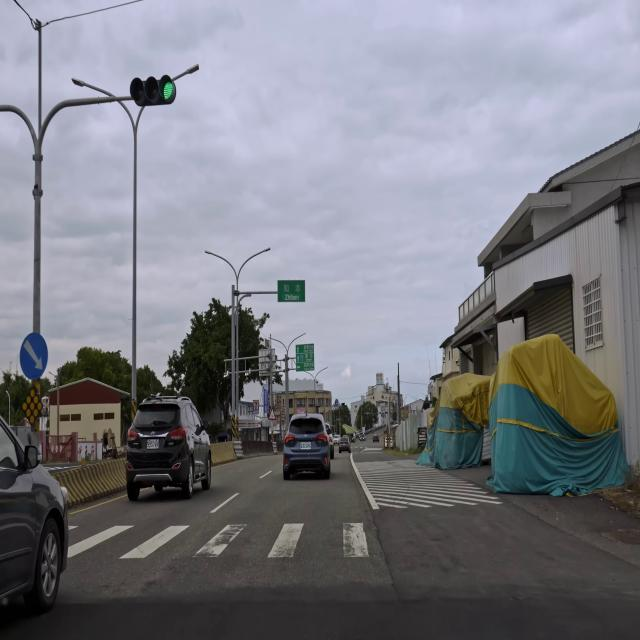green light: (129, 77, 176, 105)
